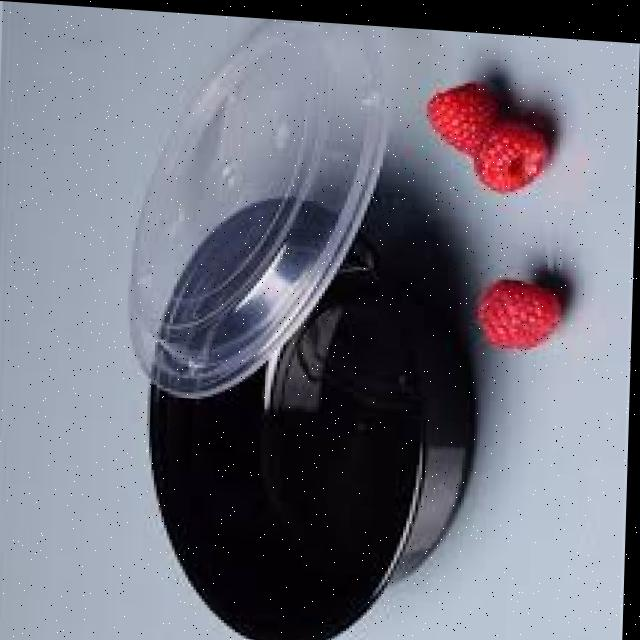disposable: (126, 191, 486, 640)
